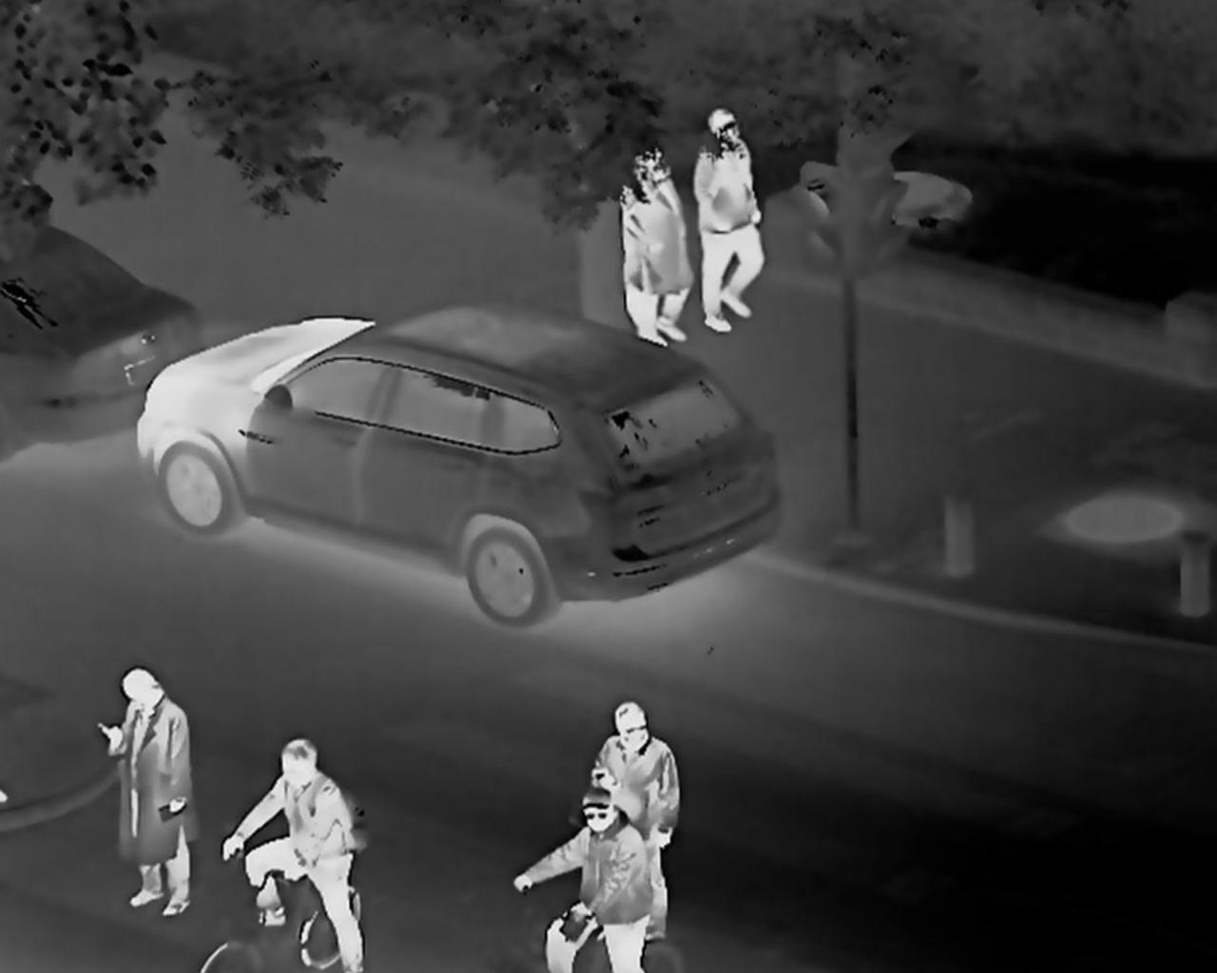person: (86, 640, 216, 918), (261, 732, 393, 964), (699, 113, 790, 365), (542, 791, 665, 962), (598, 674, 711, 816), (619, 147, 692, 316)
